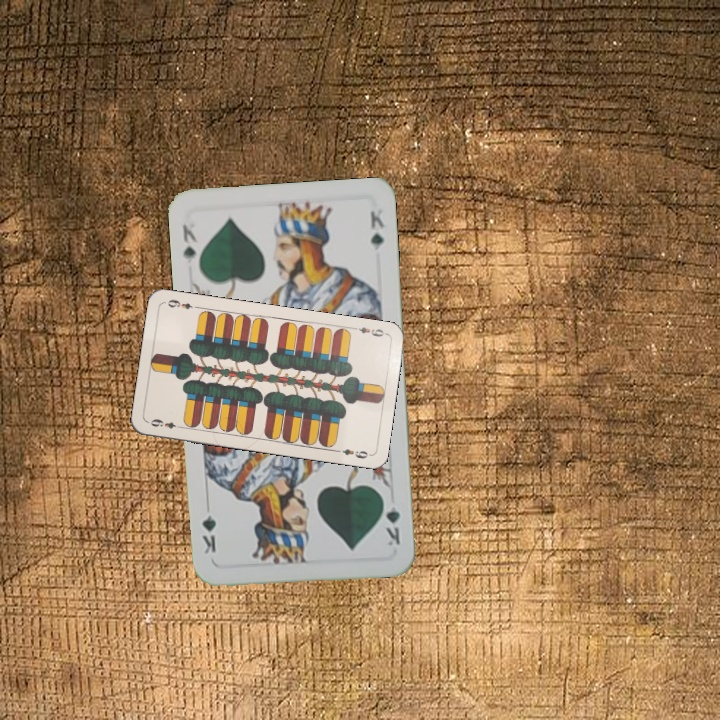E9: (349, 323, 389, 340), (145, 415, 185, 431)
GK: (379, 492, 403, 549), (178, 220, 201, 262)
